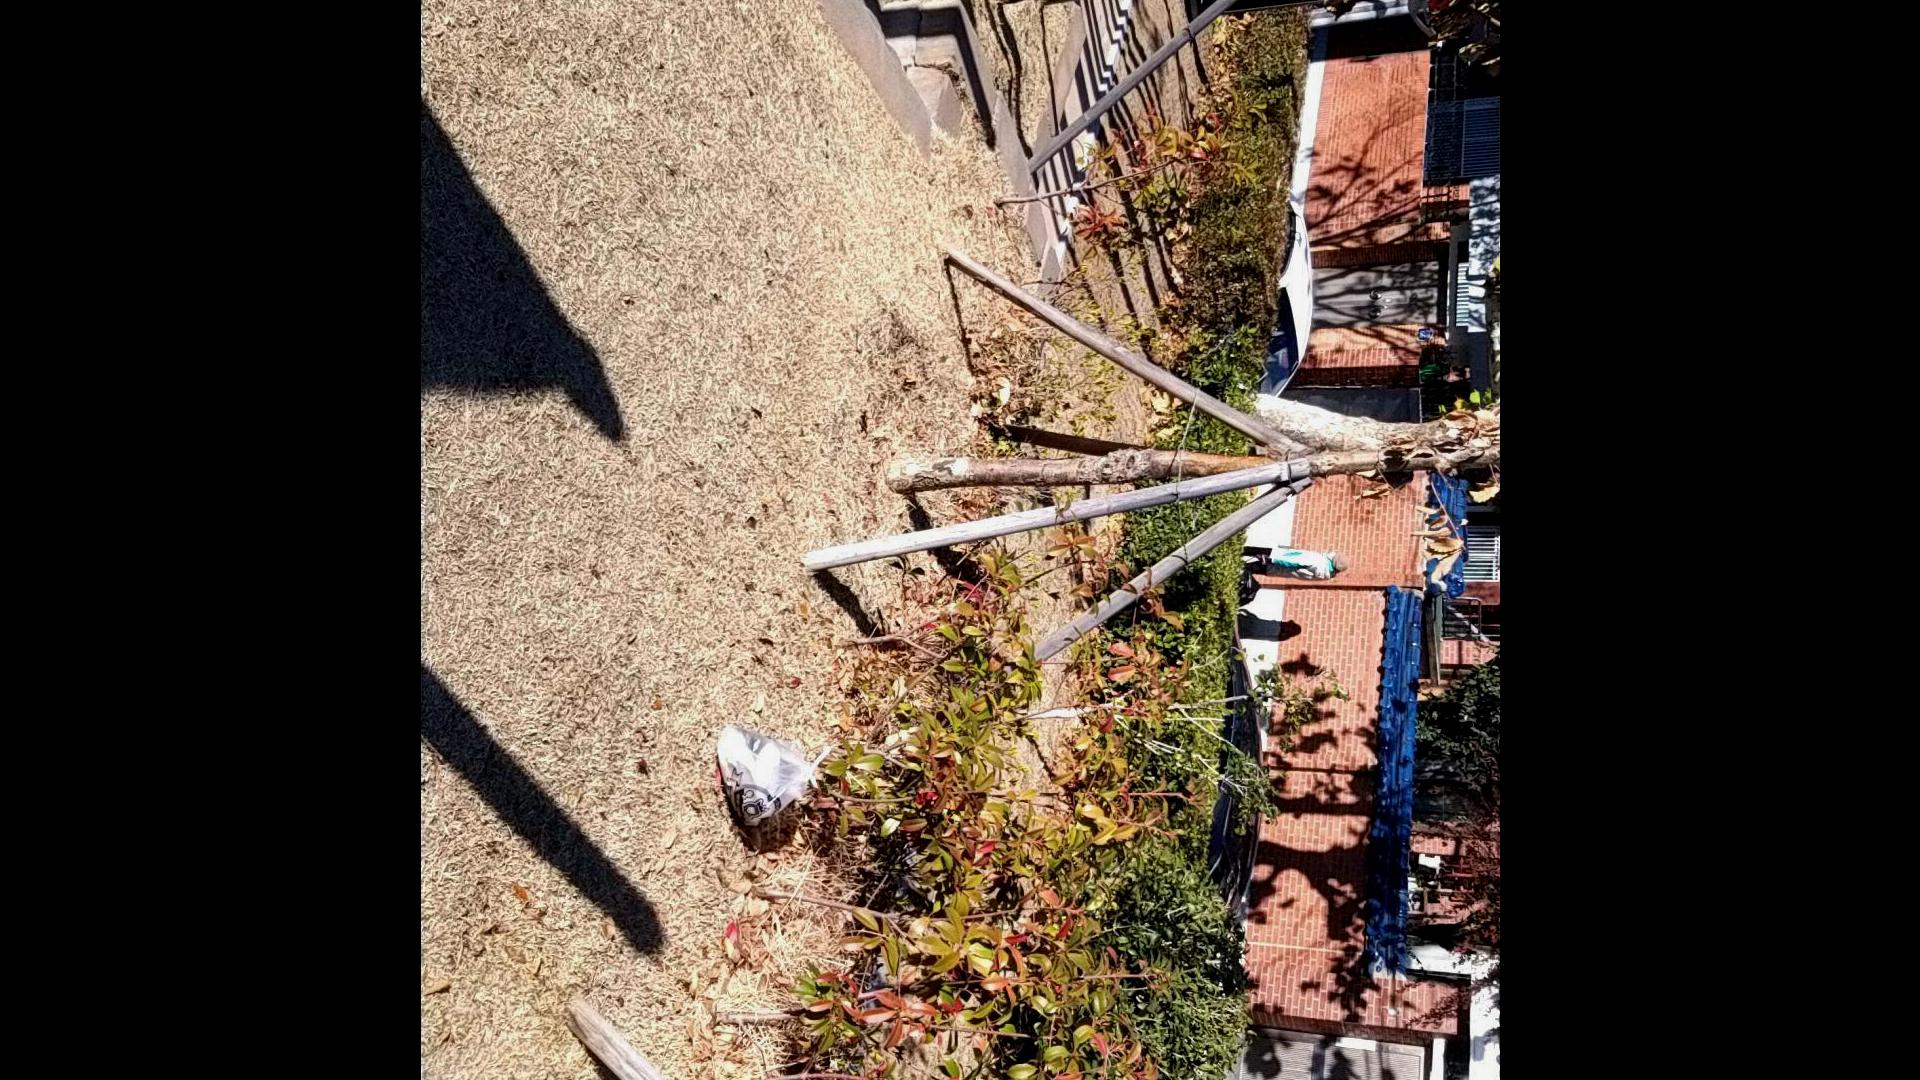white_bag: (705, 709, 847, 837)
